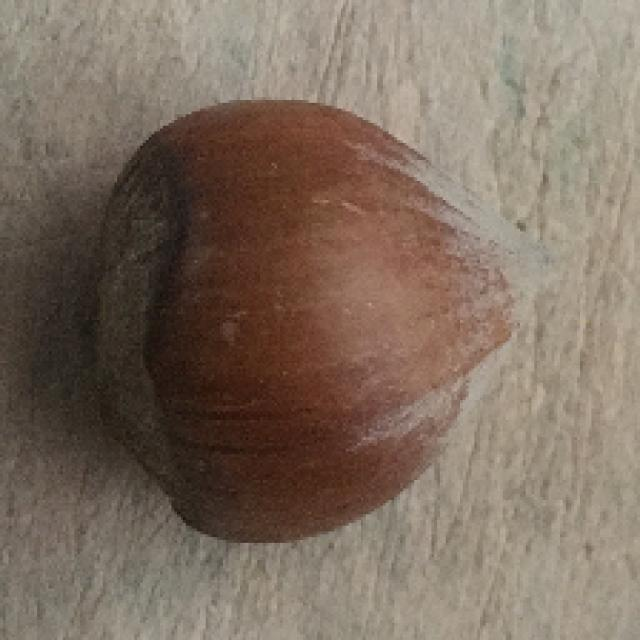qualityHazelnut: (70, 81, 530, 546)
